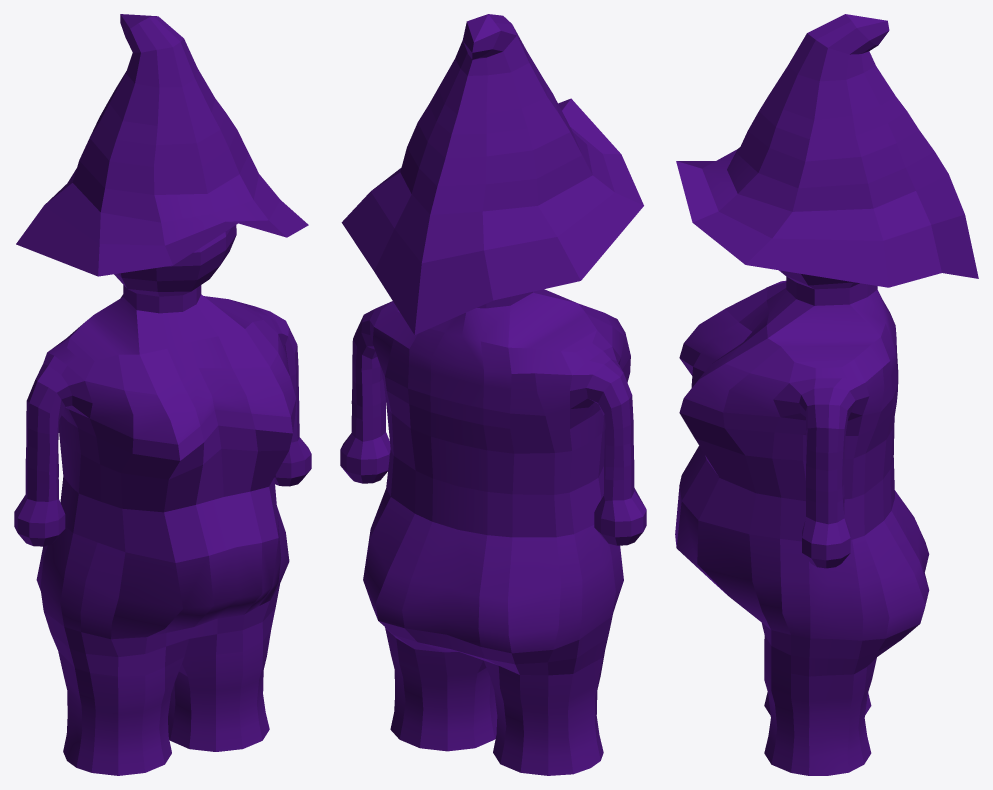
File: Gnome 2.fbx
3 views of the same model, side by side, from view 1: azimuth 30°, elevation 25°; view 2: azimuth 150°, elevation 25°; view 3: azimuth 270°, elevation 25° (orthographic). The views are drawn at different scales.
Parts seen in each view (by area): view 1: pCylinder4; view 2: pCylinder4; view 3: pCylinder4.
Part boxes in pixels (x1=…): pCylinder4: x1=14, y1=14, x2=311, y2=775; pCylinder4: x1=340, y1=14, x2=646, y2=775; pCylinder4: x1=675, y1=14, x2=978, y2=775.
Bounding box in the file's own units: 6.25 × 14.69 × 5.67.
